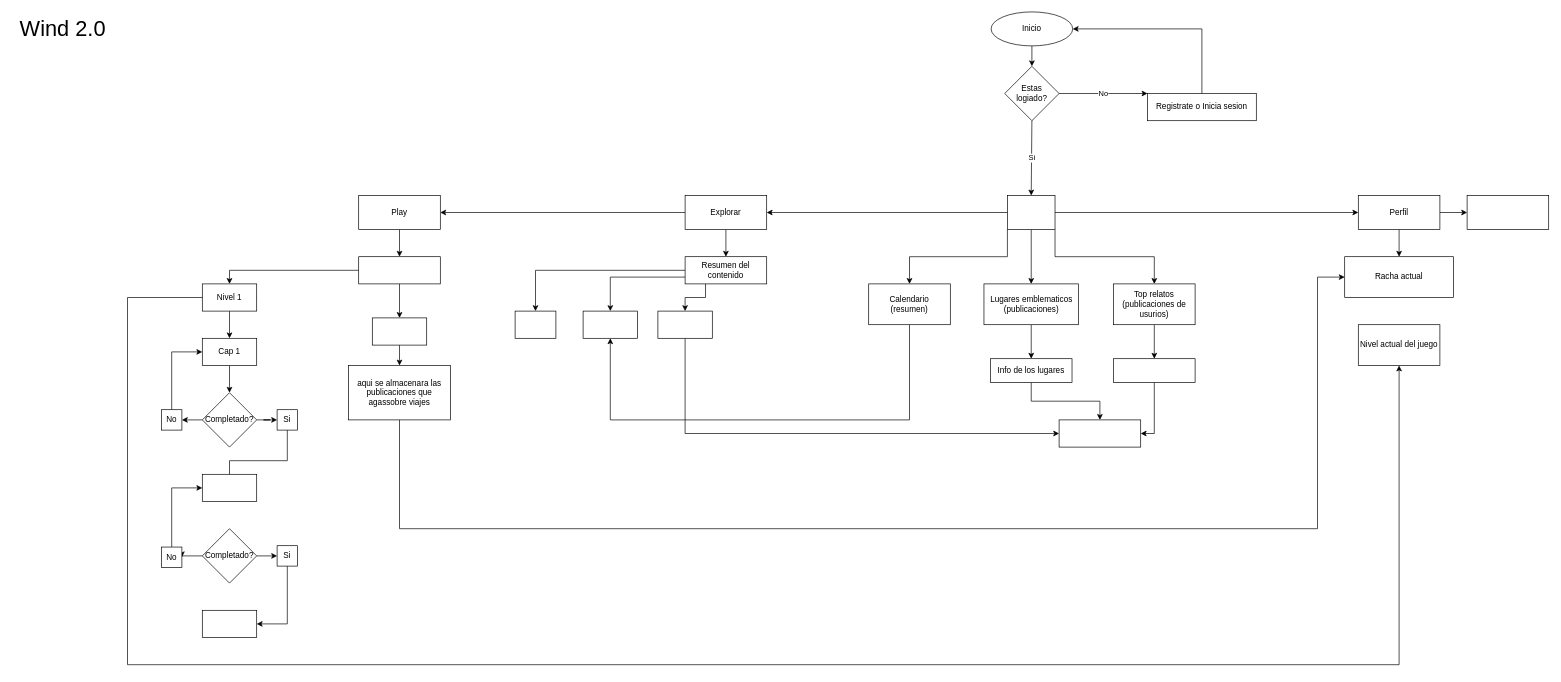
Image size: 1561x682. Some labels were removed from this diagram. The shapes that lost their labels are listed below. From the top down, each one's box as (x1, y1, x2, y2) in pixels, then its label:
(1007, 195, 1055, 230): Home
(1466, 195, 1549, 230): Info de usuario
(358, 256, 440, 284): Ver juegos
(372, 317, 427, 345): Racha como explorador
(514, 310, 556, 338): Rutas
(582, 310, 638, 338): Calendario
(657, 310, 712, 338): Relatos
(1113, 358, 1195, 382): Info de los usuarios
(1058, 419, 1141, 447): Comentarios
(202, 474, 257, 502): Cap 2
(202, 610, 257, 638): Cap 3
